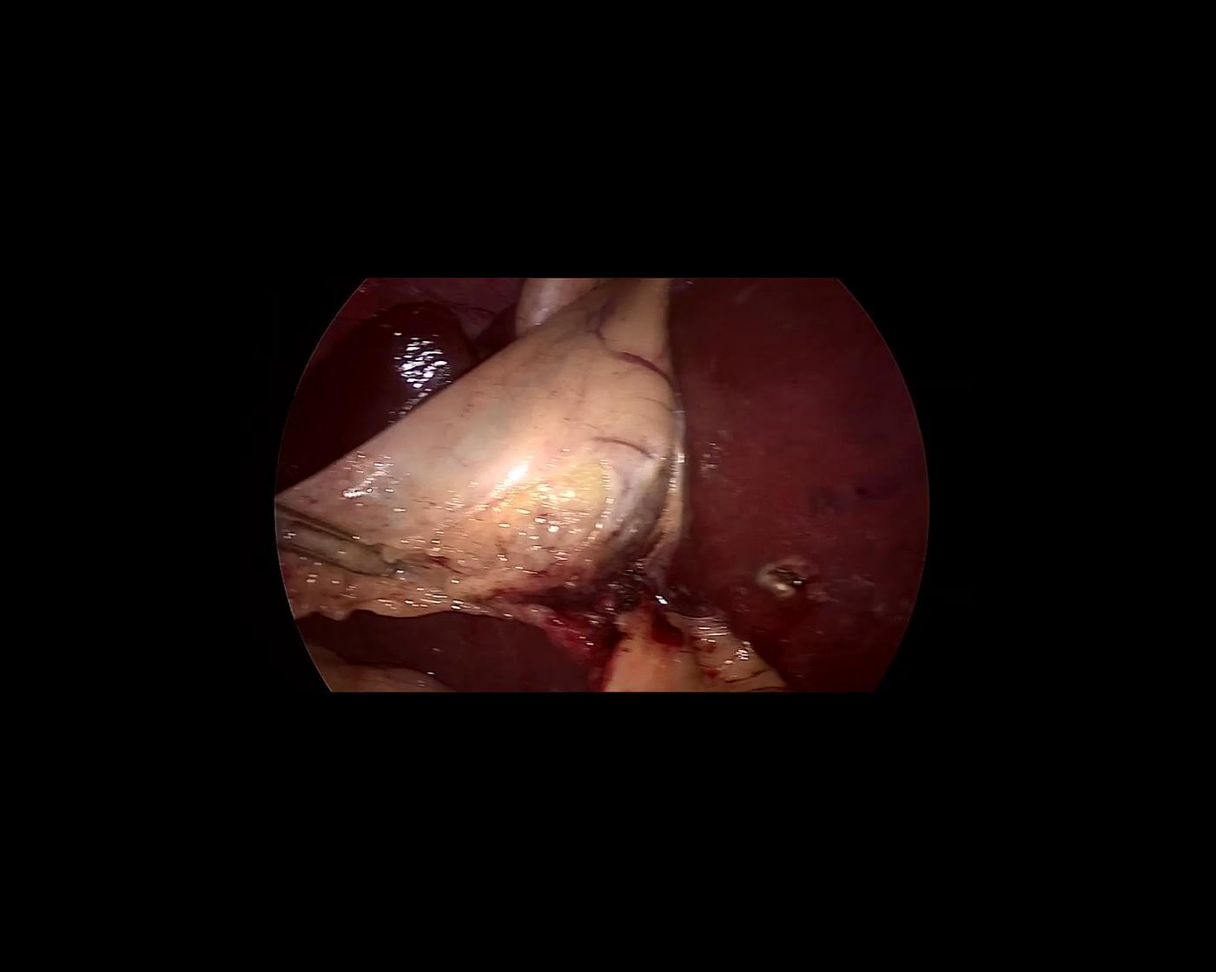Forceps: (263, 506, 406, 588)
Gallbladder: (249, 259, 714, 634)
Liver: (666, 279, 929, 694), (206, 210, 547, 495), (296, 608, 594, 700)
